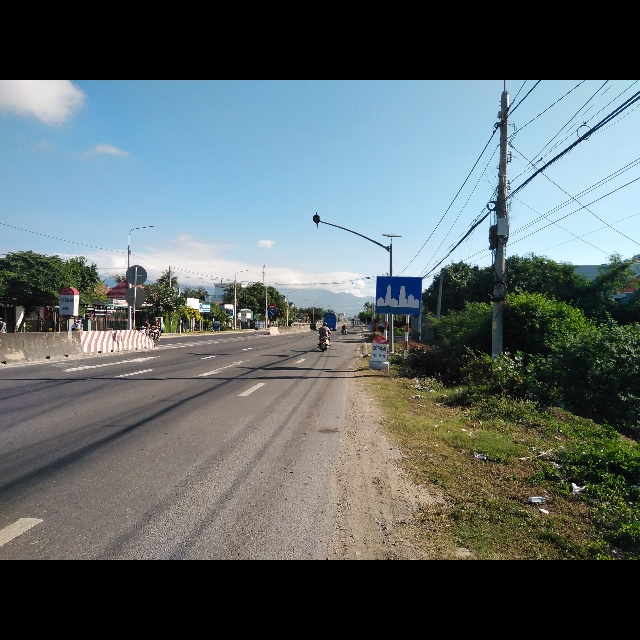Khu đông dân cư: (375, 276, 423, 315)
